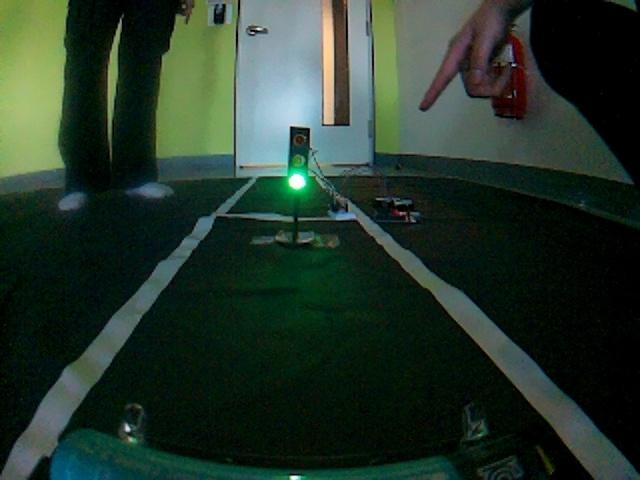go: (29, 268, 579, 480)
green_light: (240, 120, 353, 264)
